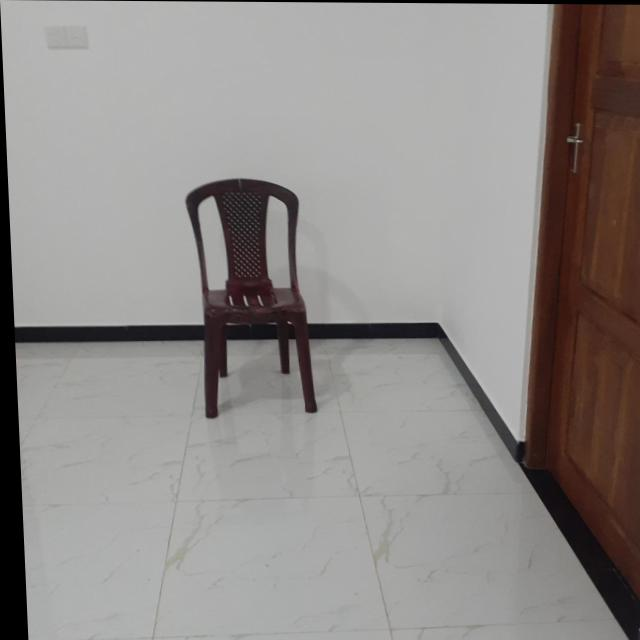Chair: (182, 177, 314, 416)
